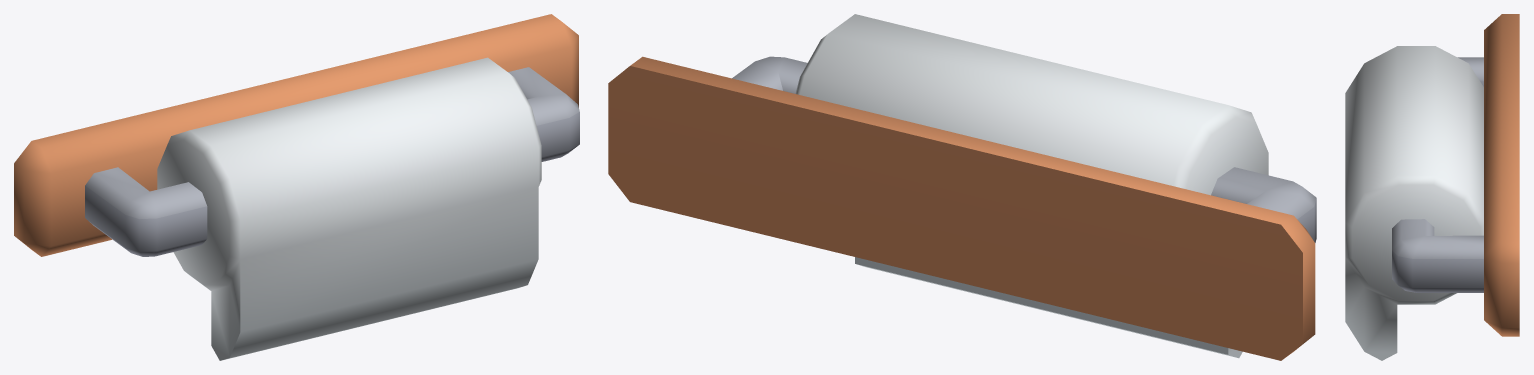
The model's file is Wall Papertowel.glb.
3 views of the same model, side by side, from view 1: azimuth 30°, elevation 25°; view 2: azimuth 150°, elevation 25°; view 3: azimuth 270°, elevation 25° (orthographic). The views are drawn at different scales.
Visible parts, largest first — view 1: wall_papertowel_holder; view 2: wall_papertowel_holder; view 3: wall_papertowel_holder.
Boxes of the visible parts, <box> form: wall_papertowel_holder: <box>14,14,579,360</box>; wall_papertowel_holder: <box>608,14,1316,360</box>; wall_papertowel_holder: <box>1345,14,1519,360</box>.
Bounding box in the file's own units: 1.6 × 0.575 × 0.49.
1 material, 1 textured.
